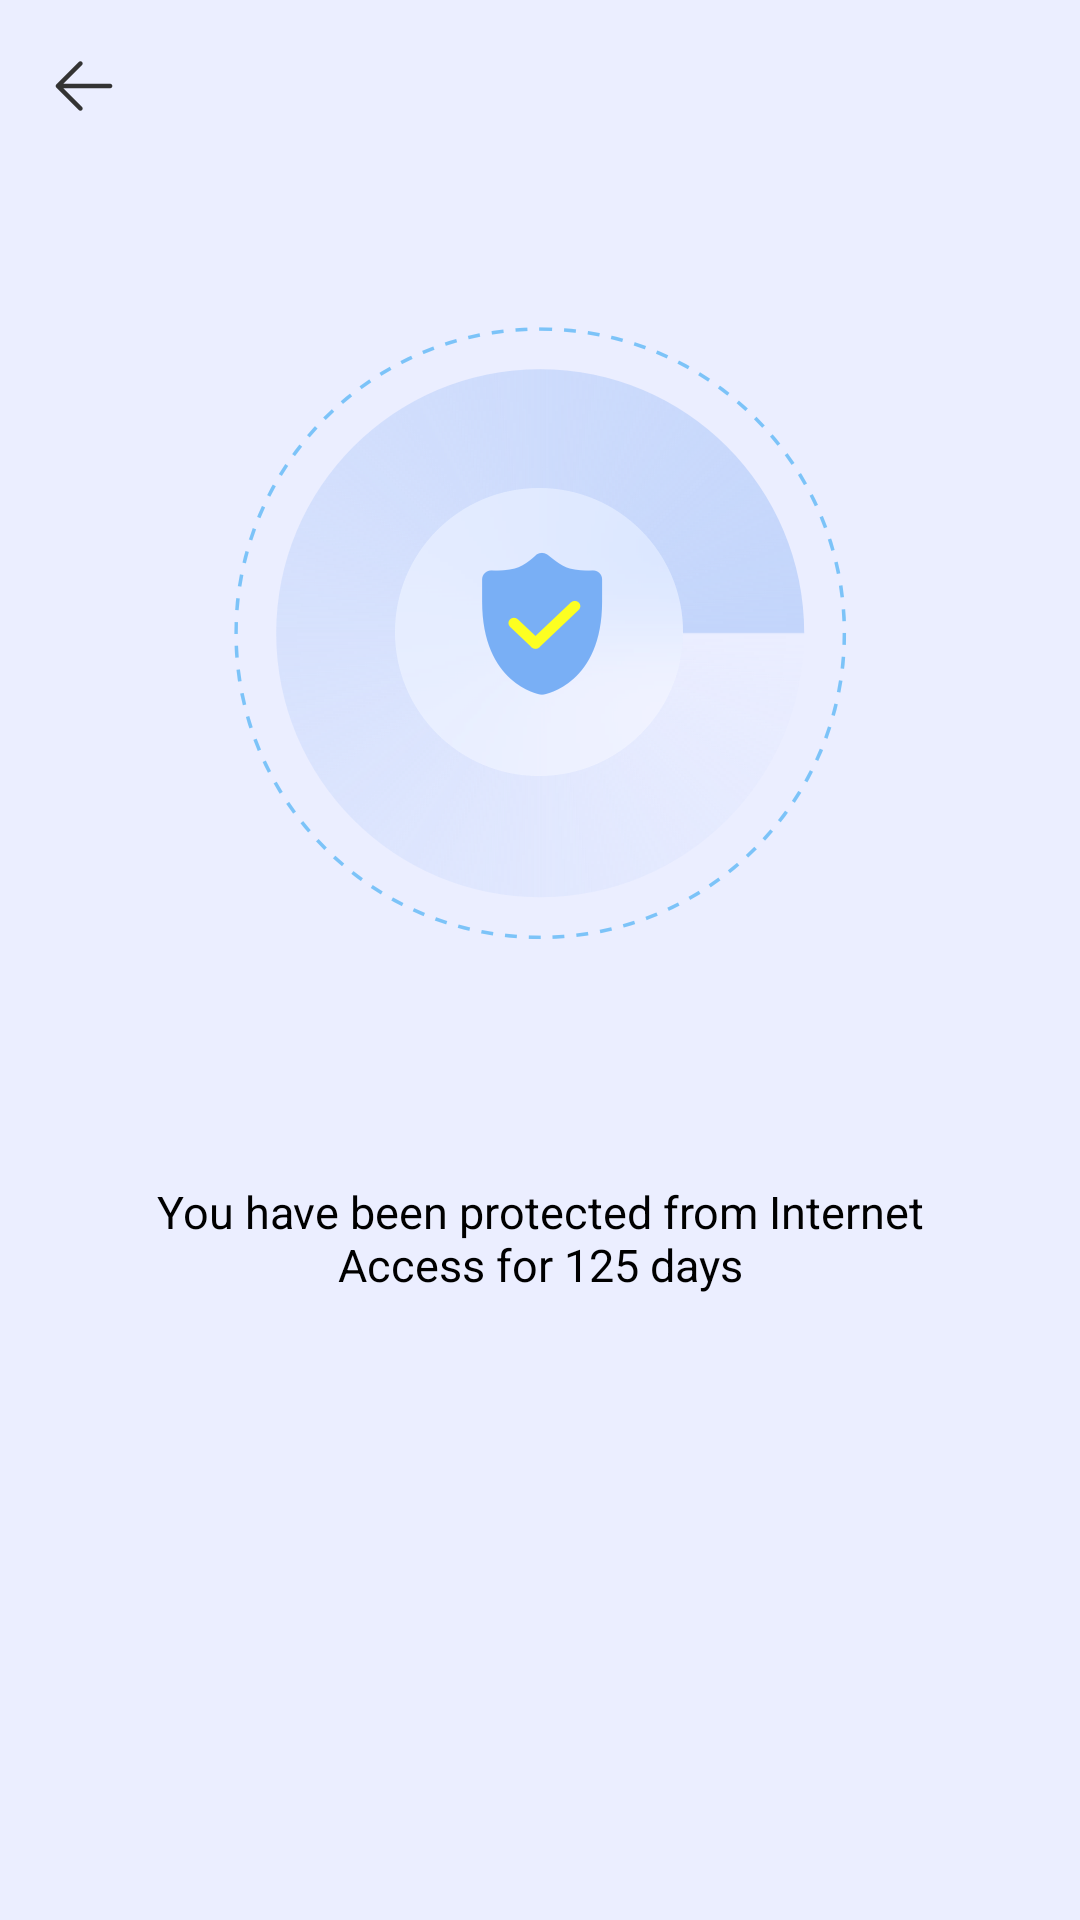

Icons on this 1080w x 1920h Android screen, each with the point to tap as (x,y):
back: (84,86)
